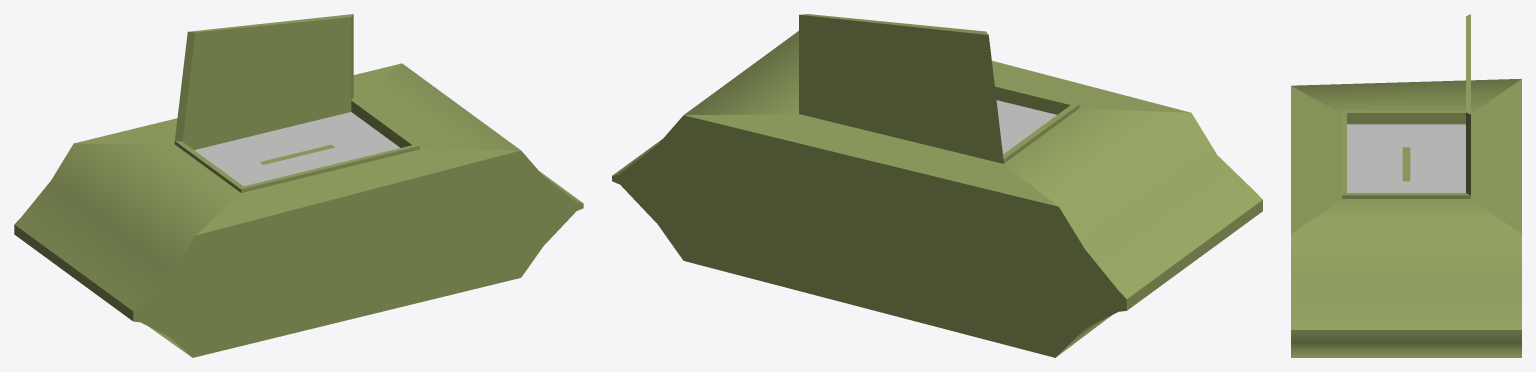
The model's file is Bathroom_wipe.fbx.
3 views of the same model, side by side, from view 1: azimuth 30°, elevation 25°; view 2: azimuth 150°, elevation 25°; view 3: azimuth 270°, elevation 25° (orthographic). The views are drawn at different scales.
Parts seen in each view (by area): view 1: pCube27; view 2: pCube27; view 3: pCube27.
Part boxes in pixels (x1,y1,x2,y2): pCube27: (14,14,583,357); pCube27: (612,14,1262,357); pCube27: (1291,14,1521,357).
Size of the model in its own units: 2.2 by 1.13 by 1.01.
